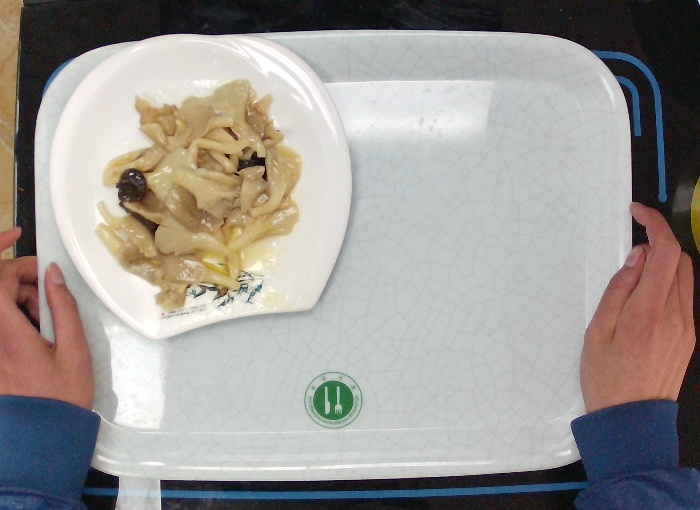JYsf-Mian_Pan: (40, 31, 363, 343)
